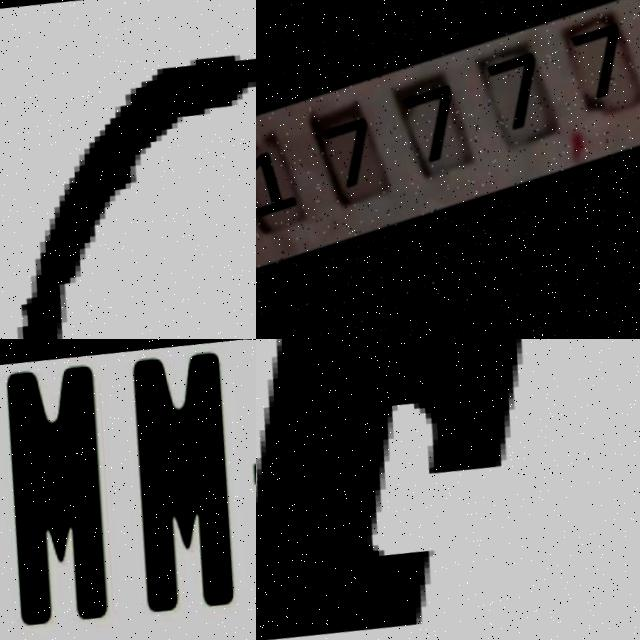1: (256, 125, 316, 234)
7: (387, 61, 489, 181), (470, 30, 571, 146), (553, 0, 640, 116), (308, 95, 400, 204)
F: (256, 339, 640, 640)
M: (110, 347, 256, 622), (0, 354, 134, 634)
O: (25, 50, 256, 339)
